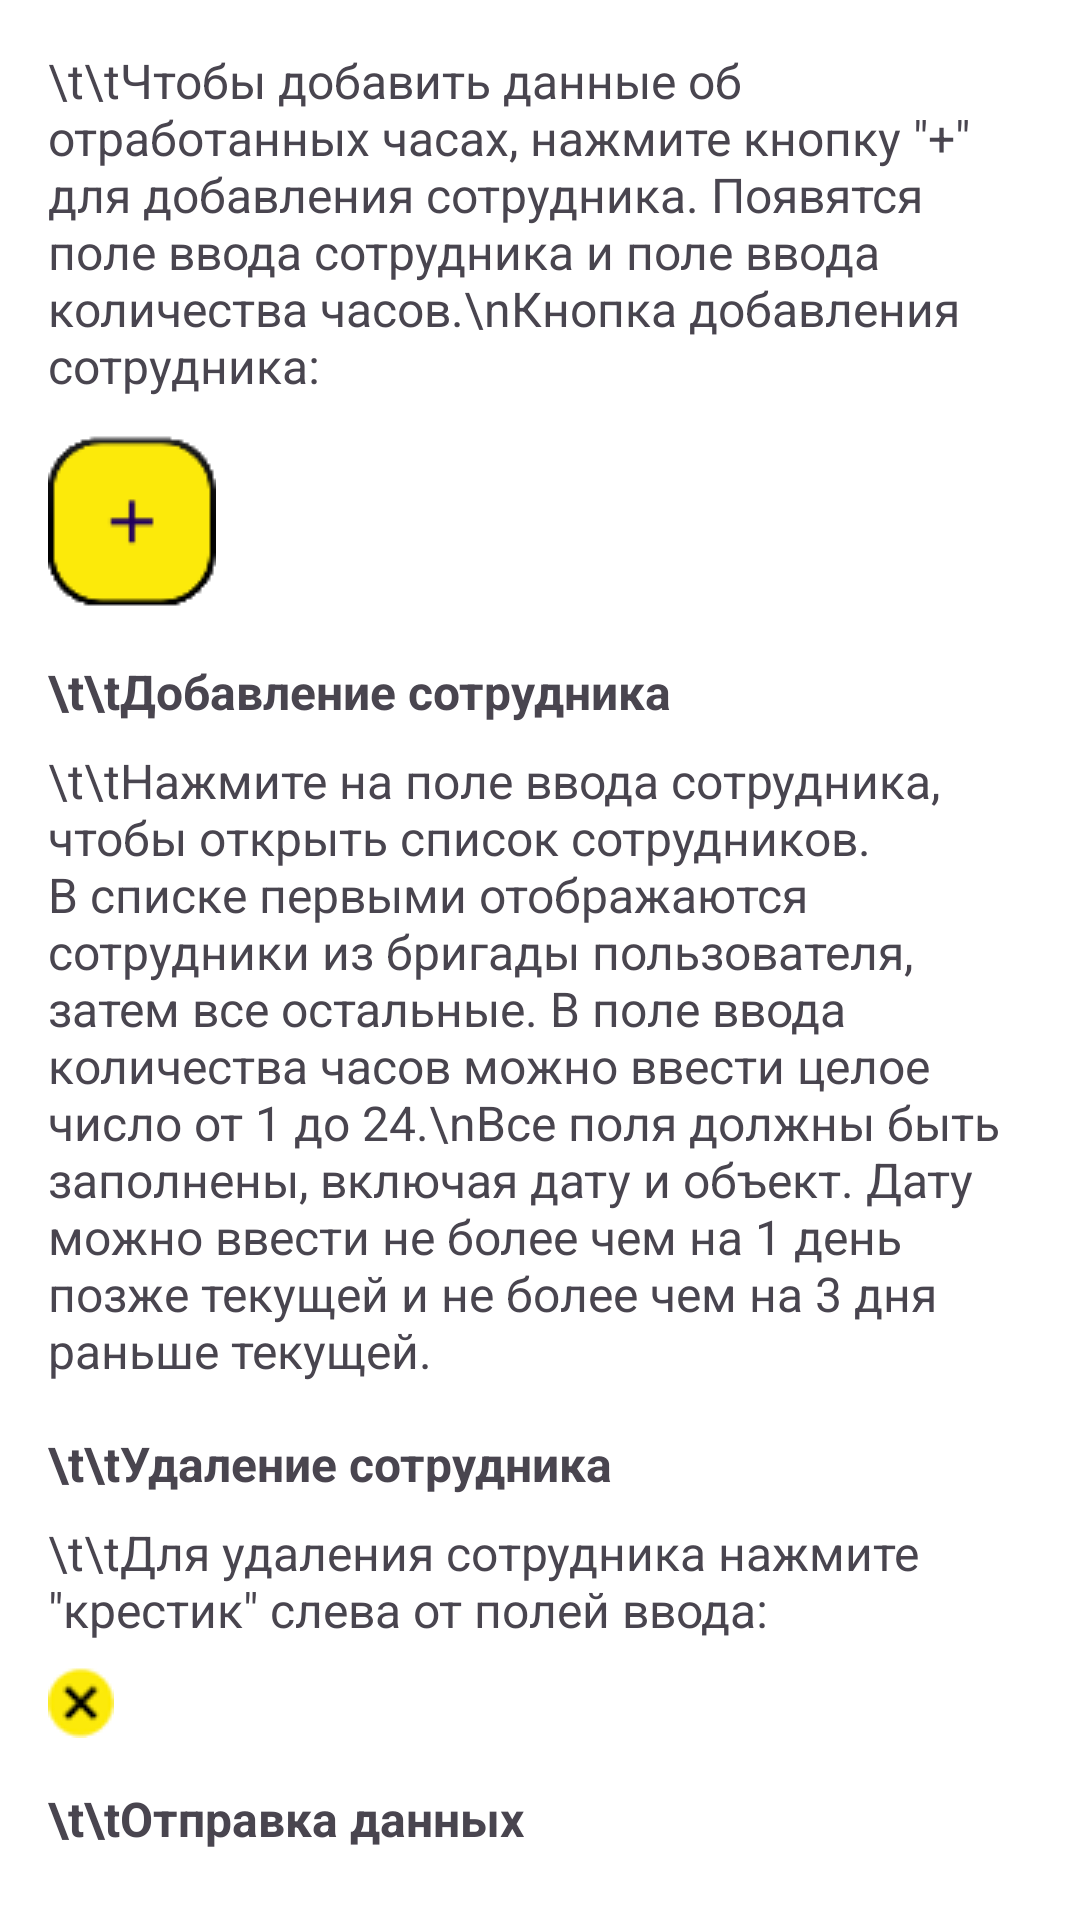

Icon bounding boxes for this 1080px x 1920px phone screenshot, format (x1, y1, x2, y2):
add: (48, 436, 216, 606)
delete: (48, 1668, 114, 1738)
